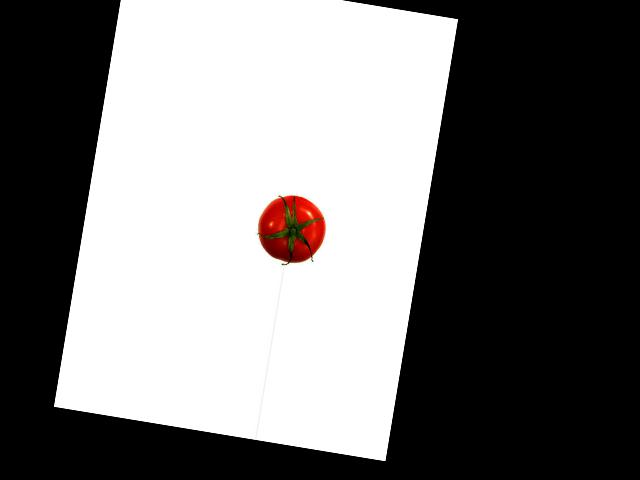tomato: (253, 190, 329, 267)
